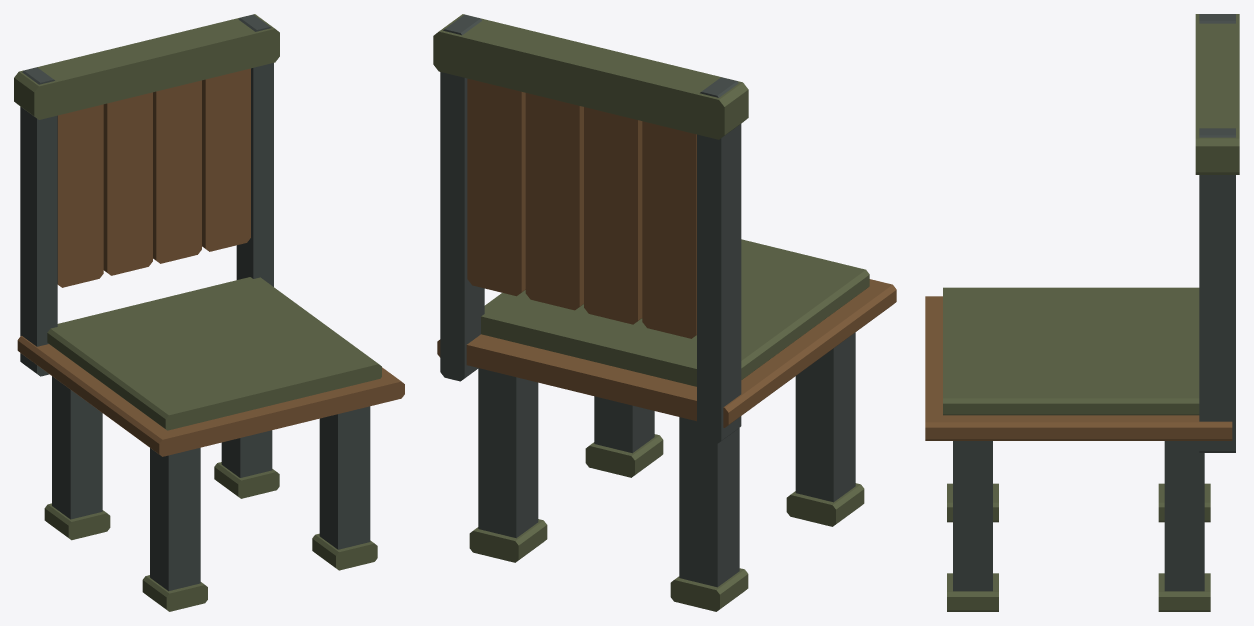
The model's file is Chair.gltf.
3 views of the same model, side by side, from view 1: azimuth 30°, elevation 25°; view 2: azimuth 150°, elevation 25°; view 3: azimuth 270°, elevation 25° (orthographic). The views are drawn at different scales.
Parts seen in each view (by area): view 1: Chair; view 2: Chair; view 3: Chair.
Part boxes in pixels (x1=…): Chair: x1=14, y1=14, x2=404, y2=611; Chair: x1=433, y1=14, x2=896, y2=611; Chair: x1=925, y1=14, x2=1239, y2=611.
Bounding box in the file's own units: 0.42 × 0.73 × 0.43.
